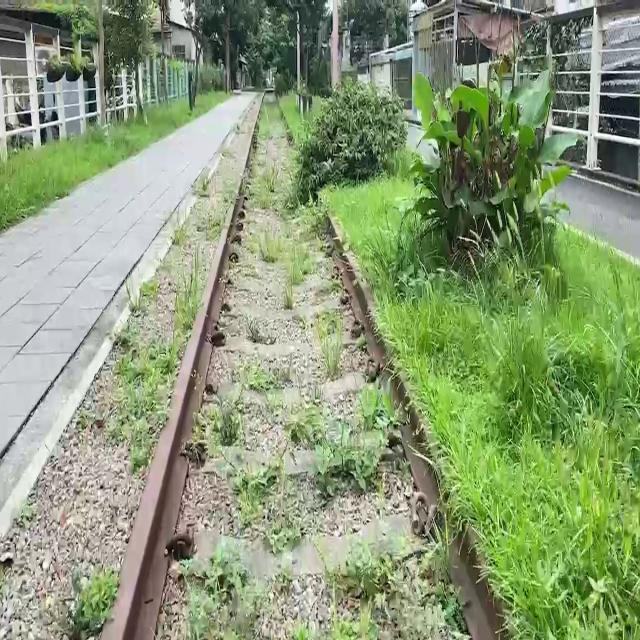rail: (86, 86, 544, 640)
